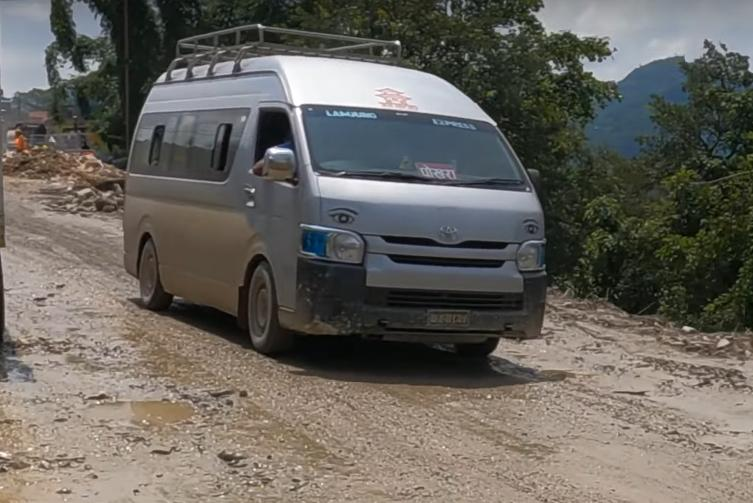micro_bus: (109, 24, 555, 365)
